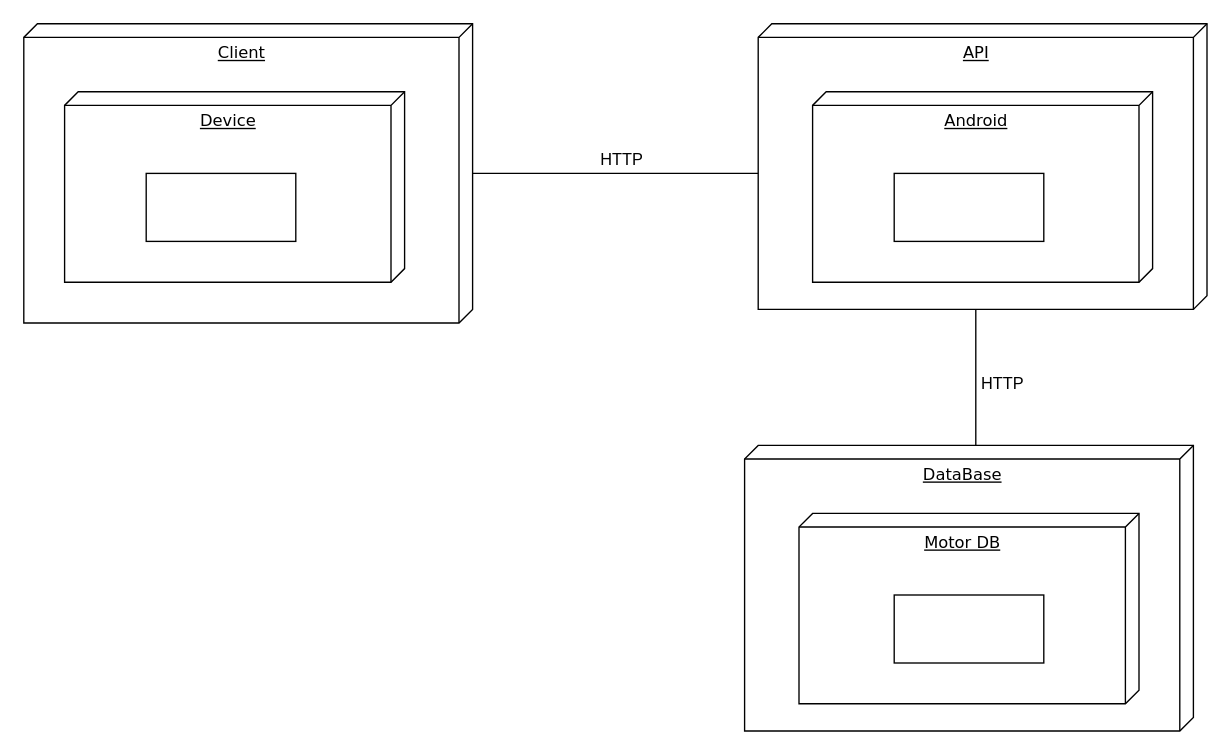
This 1231x755 diagram has some shape labels left out. The shapes that lost their labels are listed below. From the top down, each one's centre as x and y in pixels, then its label:
[220,206]: App
[968,206]: Kotlin
[968,628]: DB
